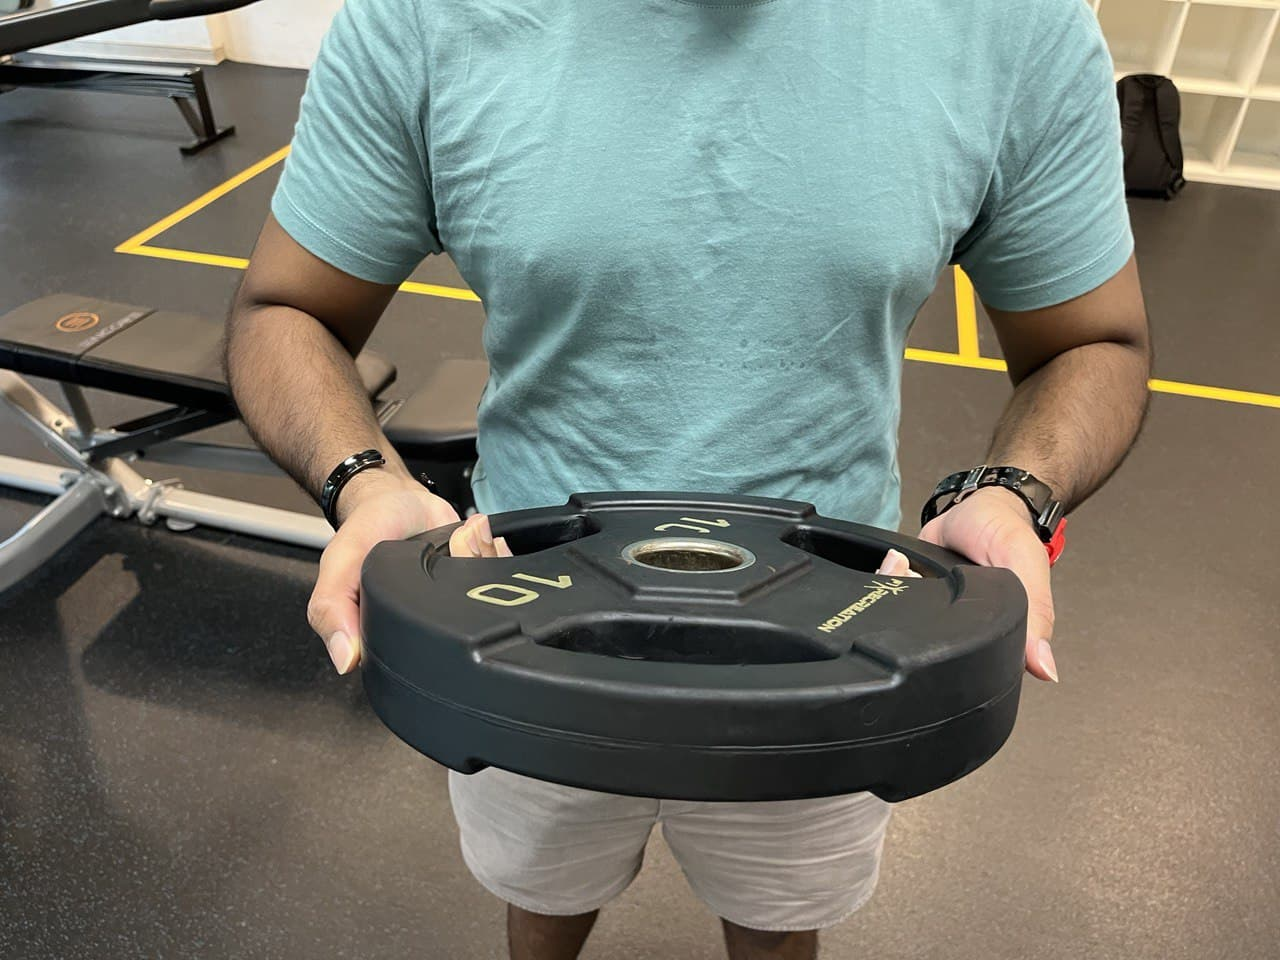weights: (359, 490, 1027, 805)
